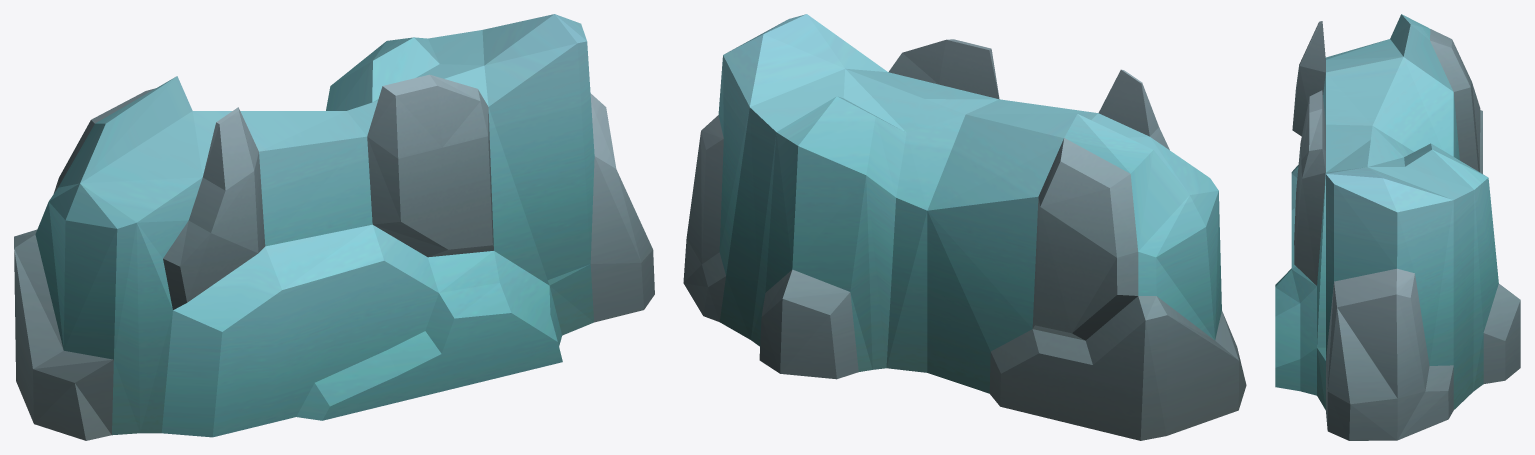
Rendered from cliffc_ice.FBX.
3 views of the same model, side by side, from view 1: azimuth 30°, elevation 25°; view 2: azimuth 150°, elevation 25°; view 3: azimuth 270°, elevation 25° (orthographic). The views are drawn at different scales.
Visible parts, largest first — view 1: cliffc_ice; view 2: cliffc_ice; view 3: cliffc_ice.
Boxes of the visible parts, left/top/right/bottom form: cliffc_ice: left=14, top=14, right=654, bottom=440; cliffc_ice: left=683, top=14, right=1246, bottom=440; cliffc_ice: left=1275, top=14, right=1520, bottom=440.
Size of the model in its own units: 33.1 by 16.12 by 14.42.
